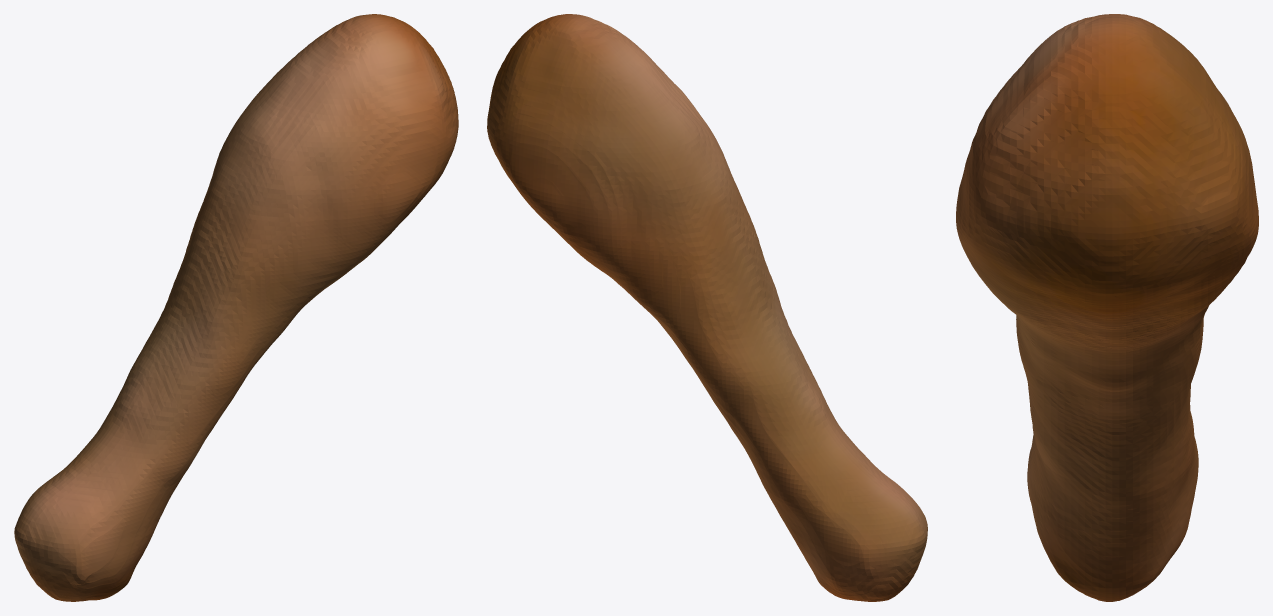
3 views of the same model, side by side, from view 1: azimuth 30°, elevation 25°; view 2: azimuth 150°, elevation 25°; view 3: azimuth 270°, elevation 25° (orthographic). The views are drawn at different scales.
Visible parts, largest first — view 1: tmpnlb4ouho.ply; view 2: tmpnlb4ouho.ply; view 3: tmpnlb4ouho.ply.
Part boxes in pixels (x1,y1,x2,y2): tmpnlb4ouho.ply: [14, 14, 458, 601]; tmpnlb4ouho.ply: [487, 14, 927, 601]; tmpnlb4ouho.ply: [956, 14, 1258, 601].
Bounding box in the file's own units: 1.71 × 1.95 × 0.6876.
